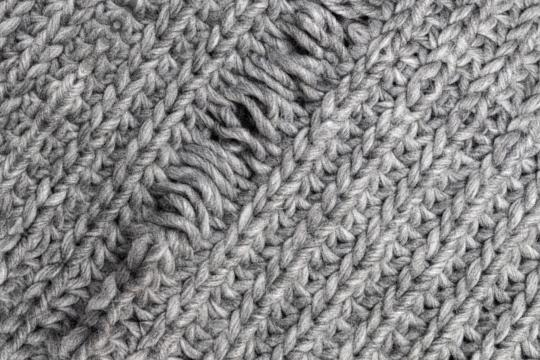slub: (140, 1, 397, 238)
